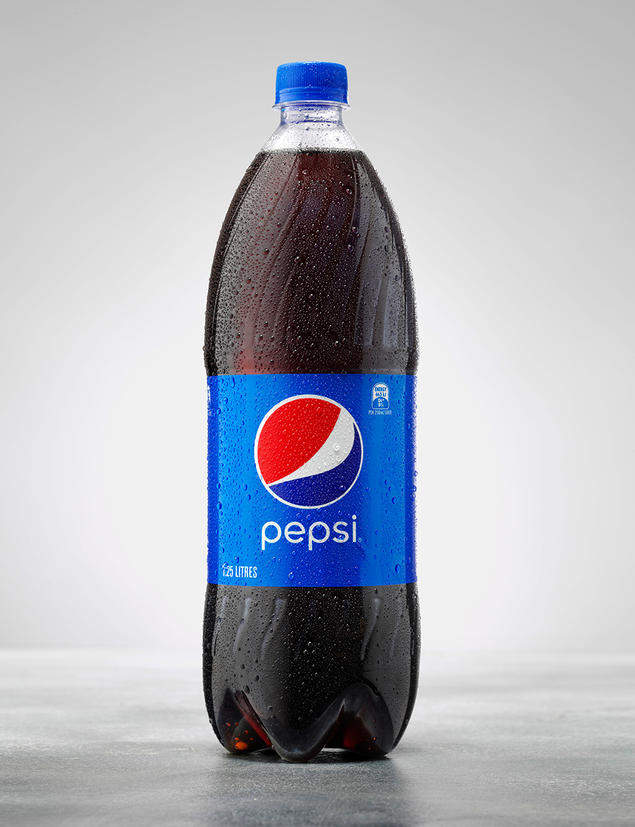pepsi: (252, 392, 360, 508), (252, 396, 360, 508)
